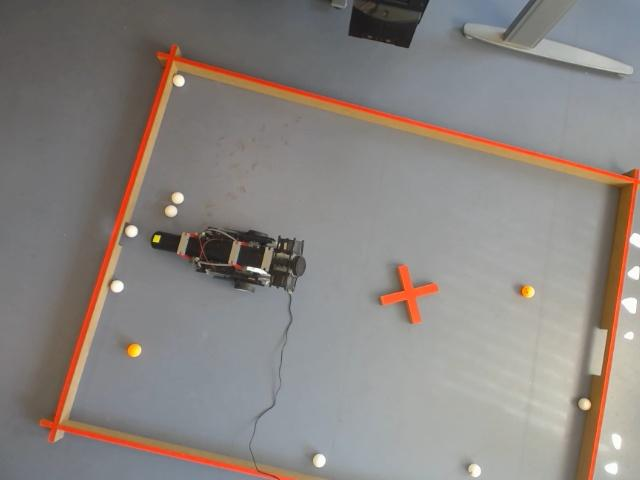orange: (127, 344, 142, 358), (521, 285, 534, 298)
robot: (150, 227, 307, 294)
robot-front: (151, 231, 177, 251)
white: (467, 463, 482, 478), (312, 453, 326, 468), (578, 397, 592, 412), (111, 280, 124, 293), (125, 225, 138, 238), (172, 74, 185, 87), (165, 205, 178, 217), (171, 192, 184, 204)
